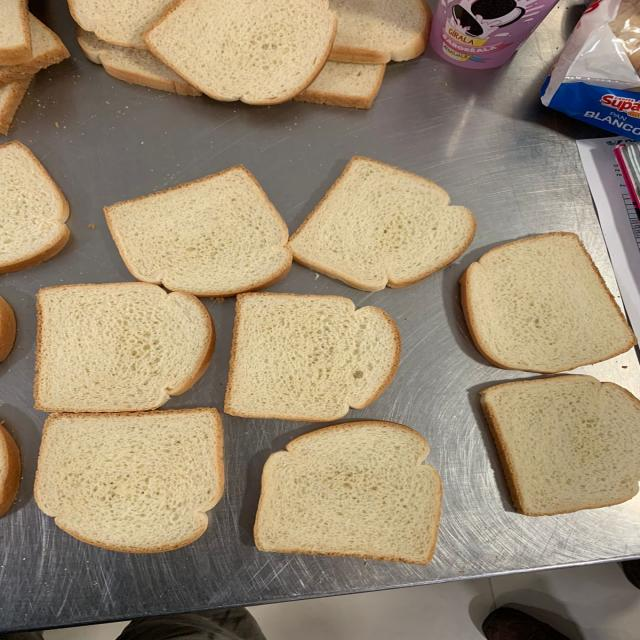pan: (254, 420, 444, 565), (34, 409, 225, 552), (288, 157, 476, 292), (461, 231, 635, 375), (105, 164, 292, 294), (35, 282, 217, 412), (480, 374, 640, 518), (225, 292, 401, 421)
